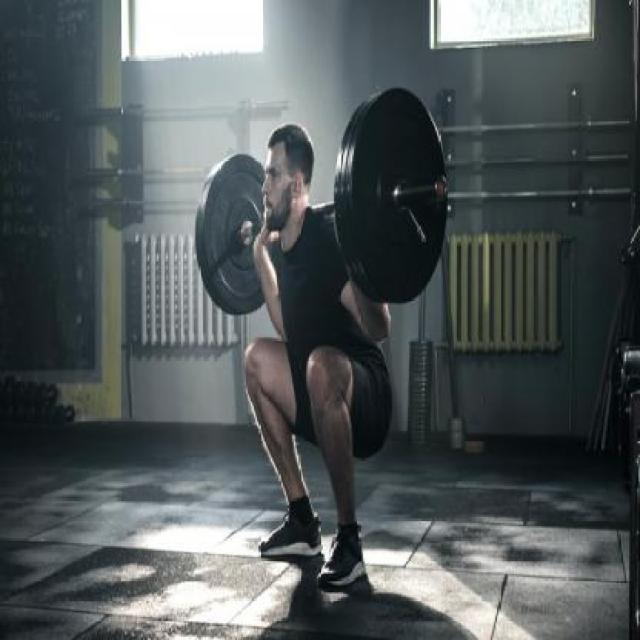barbell: (331, 75, 459, 316)
